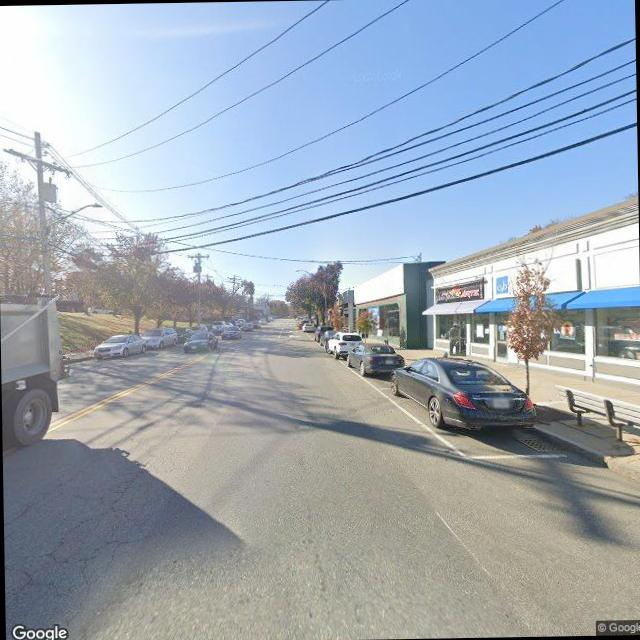crack: (3, 449, 162, 616)
